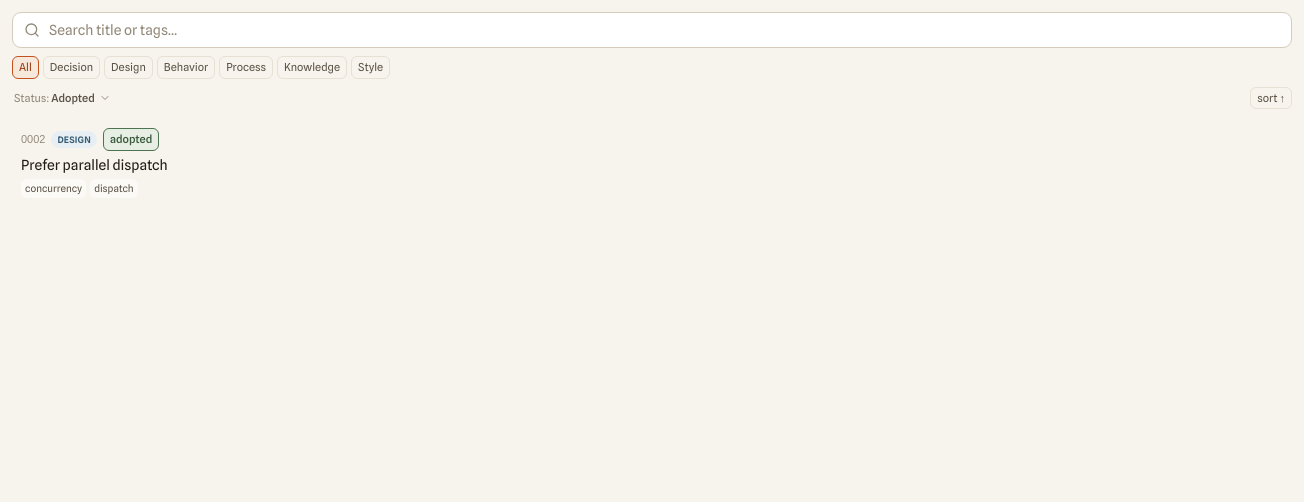
Test: NodesView index (search / filter / sort) › renders all rows with a status badge when status filter is All
The image size is (1304, 502).
Click the button "Status: adopted" at coordinates (62, 98), box x1=12 y1=90 x2=113 y2=106
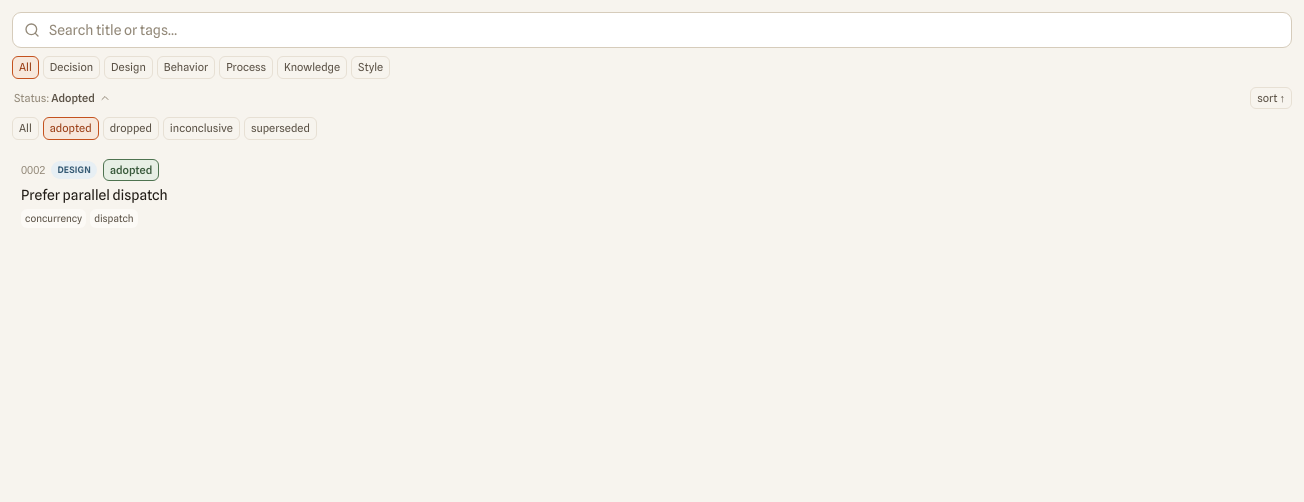
Click the 2nd radio button labelled "All" at coordinates (25, 128), box x1=12 y1=117 x2=39 y2=140
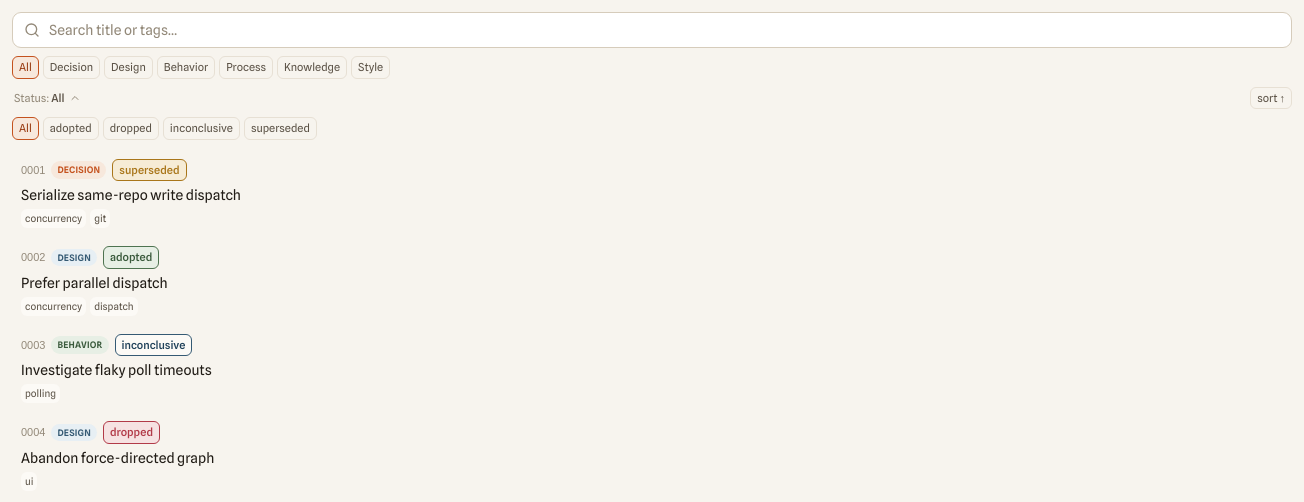
Check: the text "adopted" is shown, box x1=103 y1=246 x2=159 y2=268
Check: the button with test id "node-row-0001" is shown, box x1=12 y1=152 x2=1292 y2=235
